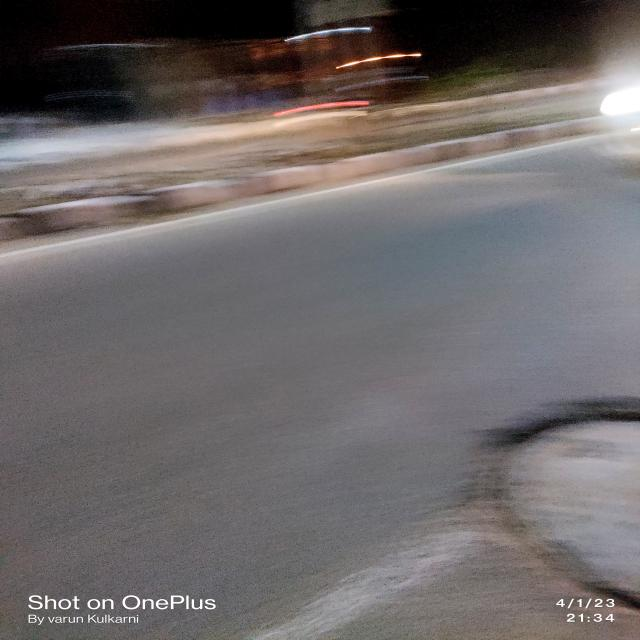potholes: (462, 392, 640, 636)
